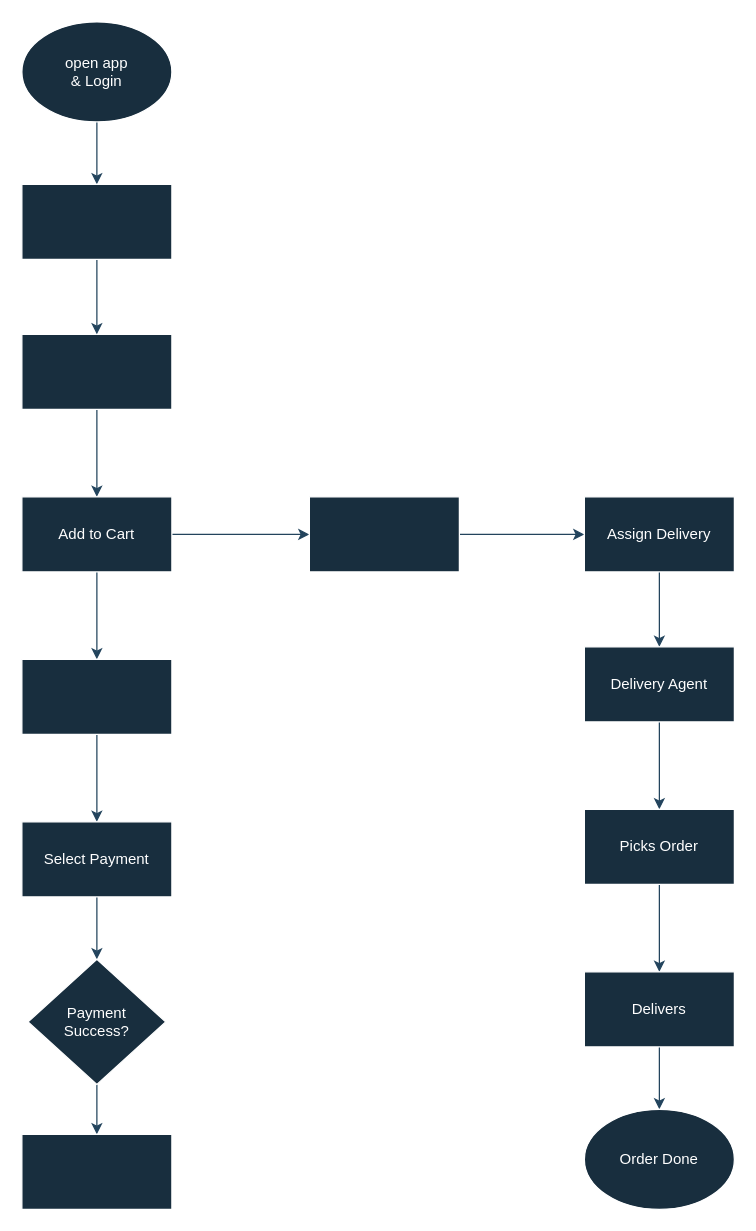
This 756x1231 diagram has some shape labels left out. The shapes that lost their labels are listed below. From the top down, each one's centre as x and y in pixels, then its label:
At pixel 96 221: "Browse Restuarants".
At pixel 96 371: "Select items".
At pixel 383 534: "Restuarant Accept".
At pixel 96 696: "Choose Address".
At pixel 96 1171: "Order Placed".
